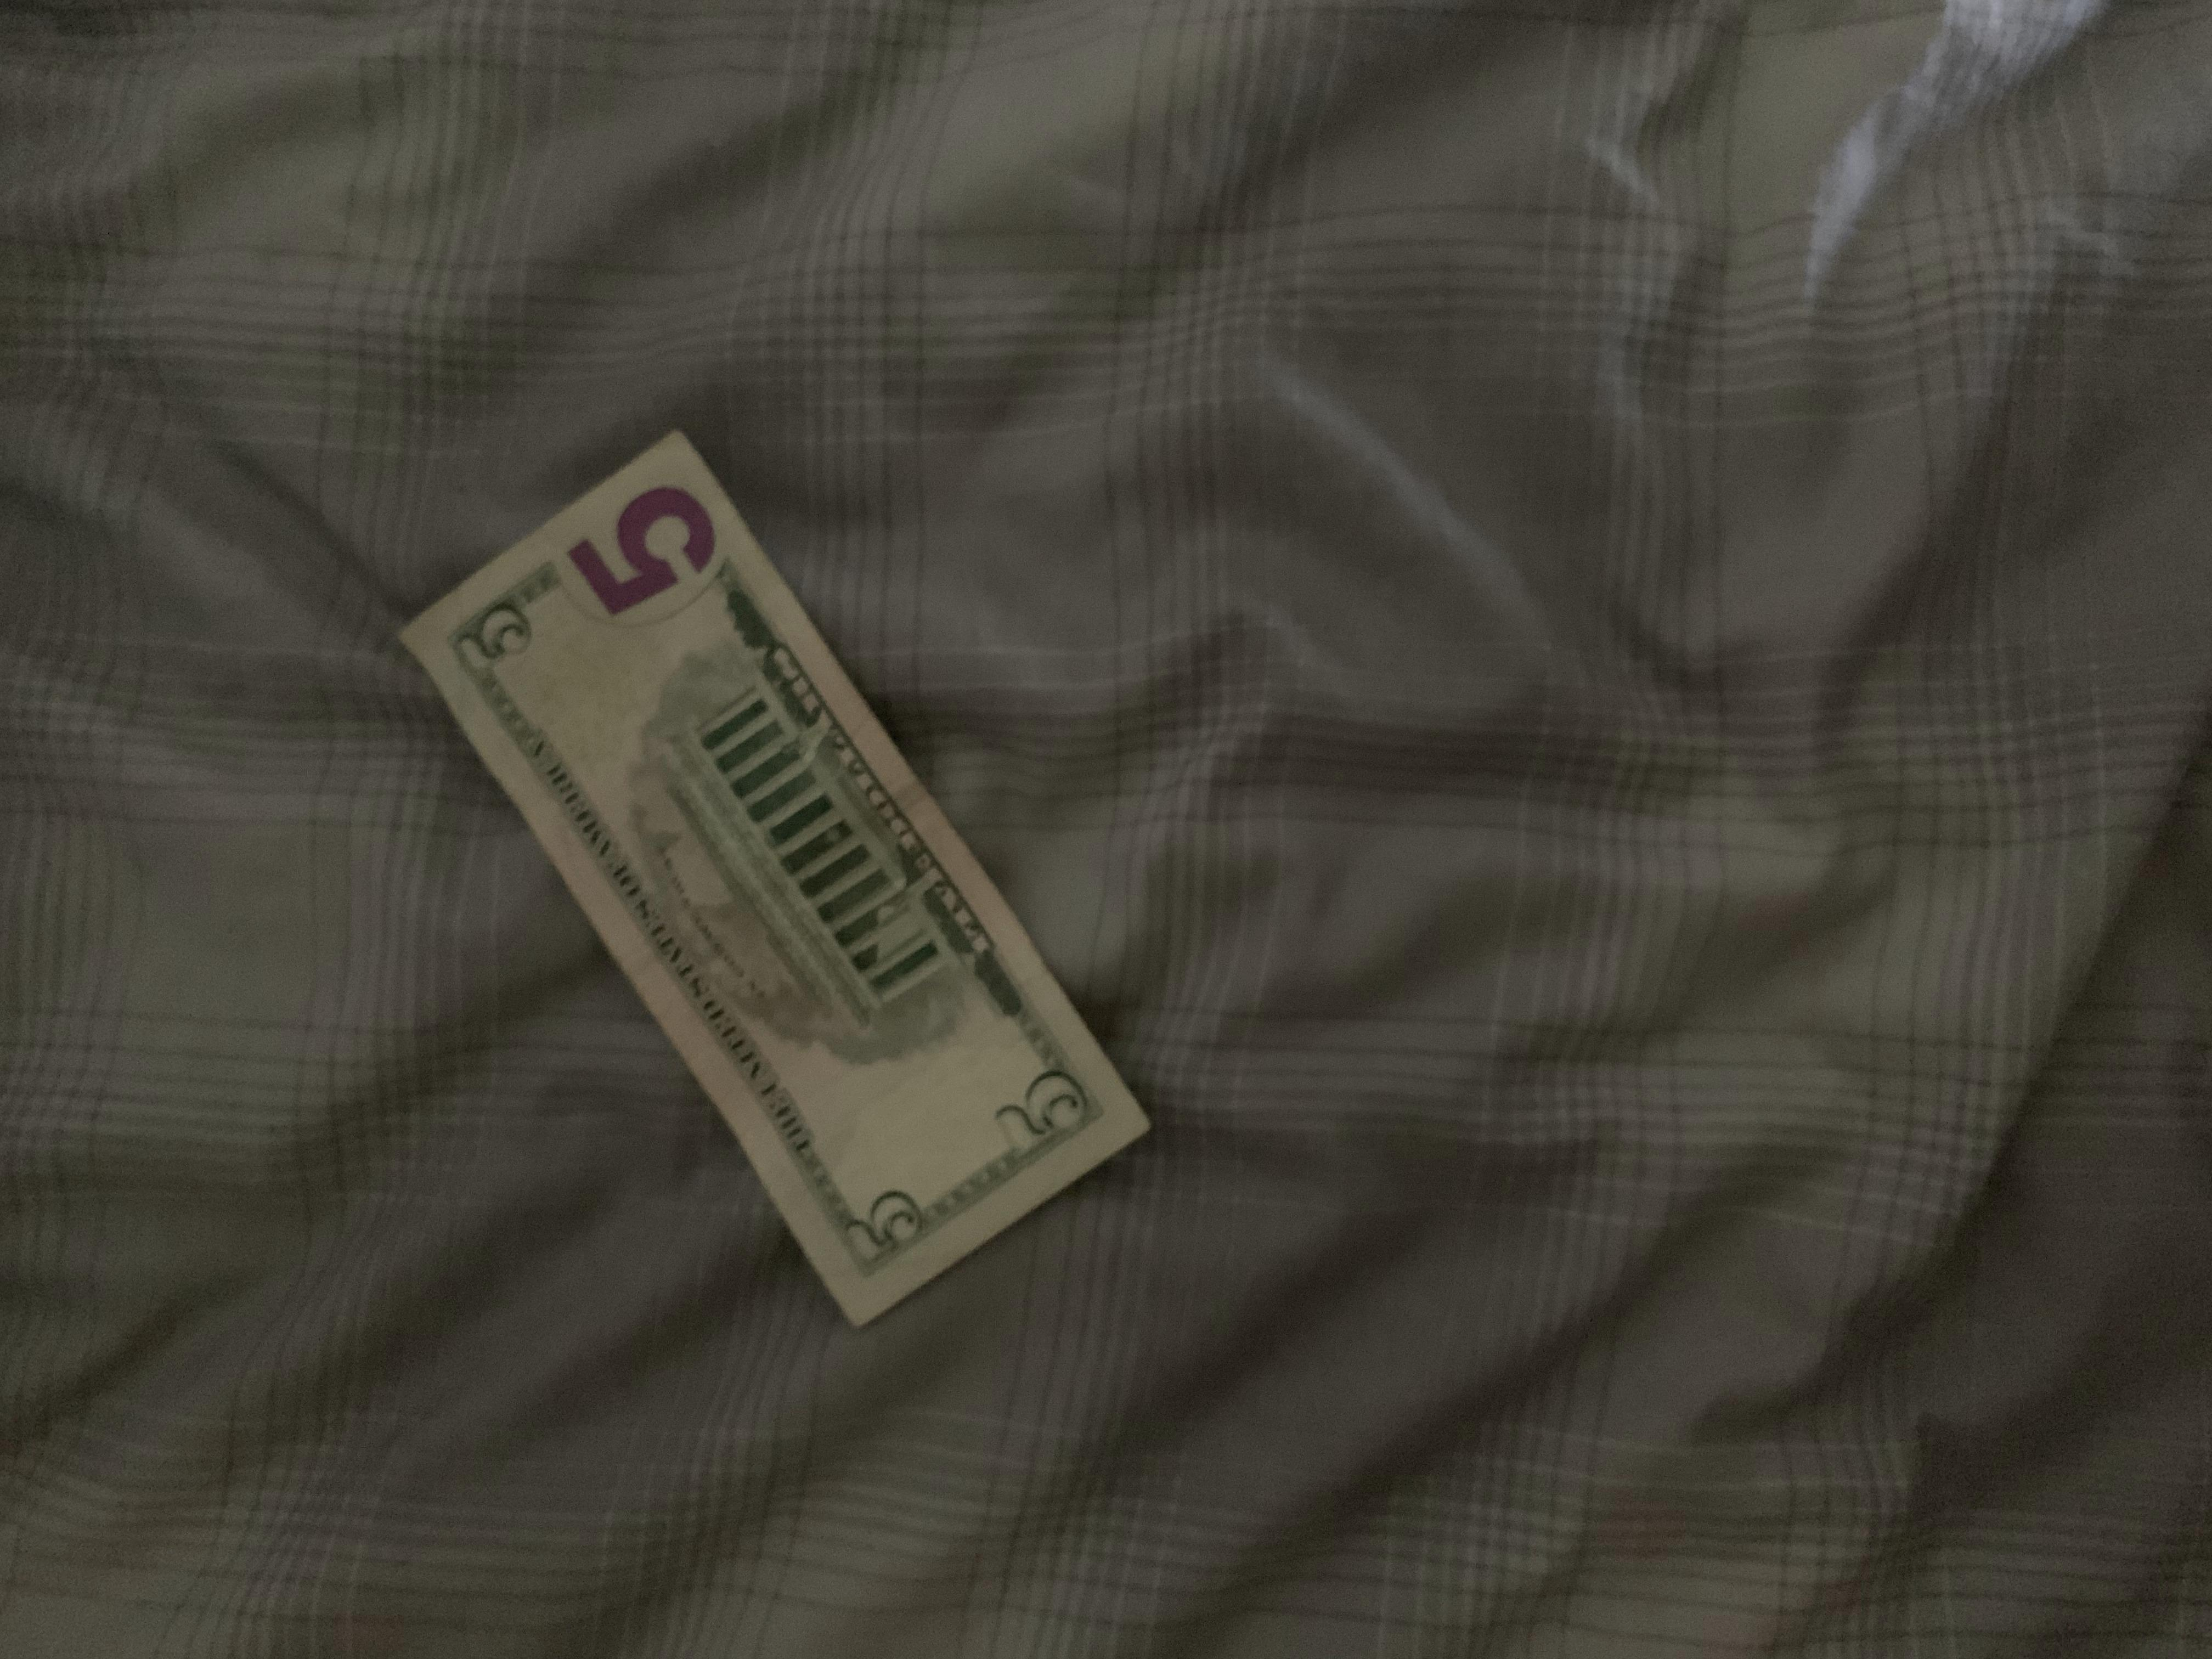FiveBill: (383, 411, 1153, 1326)
